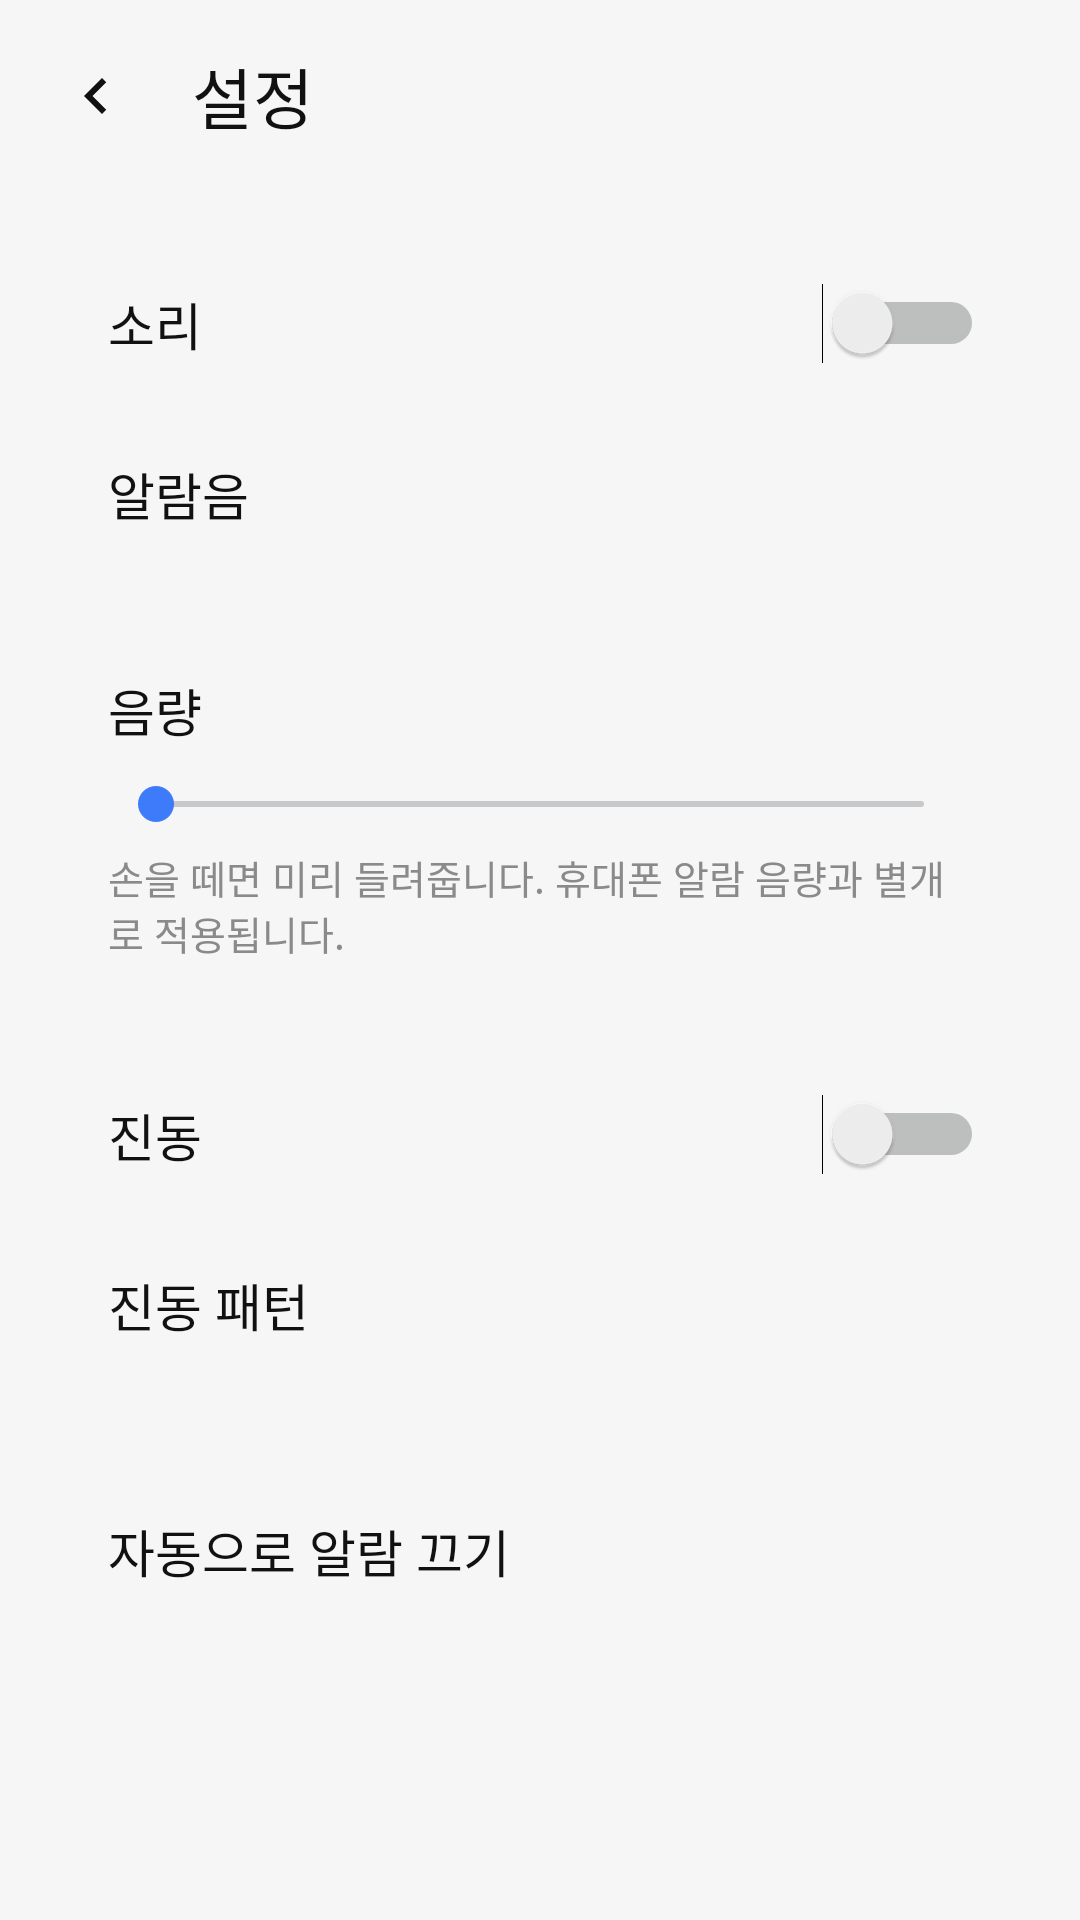

Where to tap for icons on this 1080px x 1920px app screen, as (x=x, y=y):
뒤로: (x=95, y=96)
